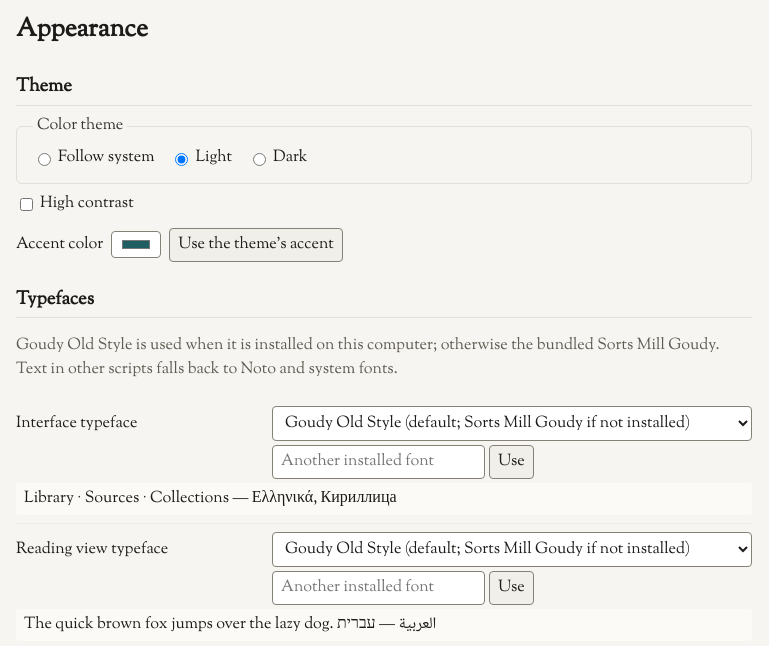
Appearance settings screen › a custom accent that fails contrast shows the warning and is not applied
In the colour field labelled "Accent color": (136, 244) [111, 231, 161, 258], type "#eeeeee"
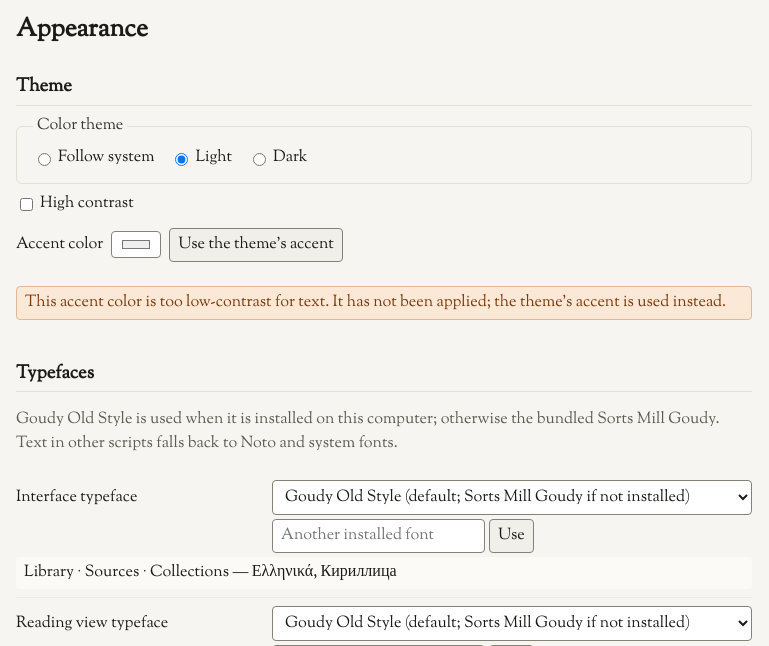
Check: the message shows "This accent color is too low-contrast for text", box [25, 290, 325, 314]
